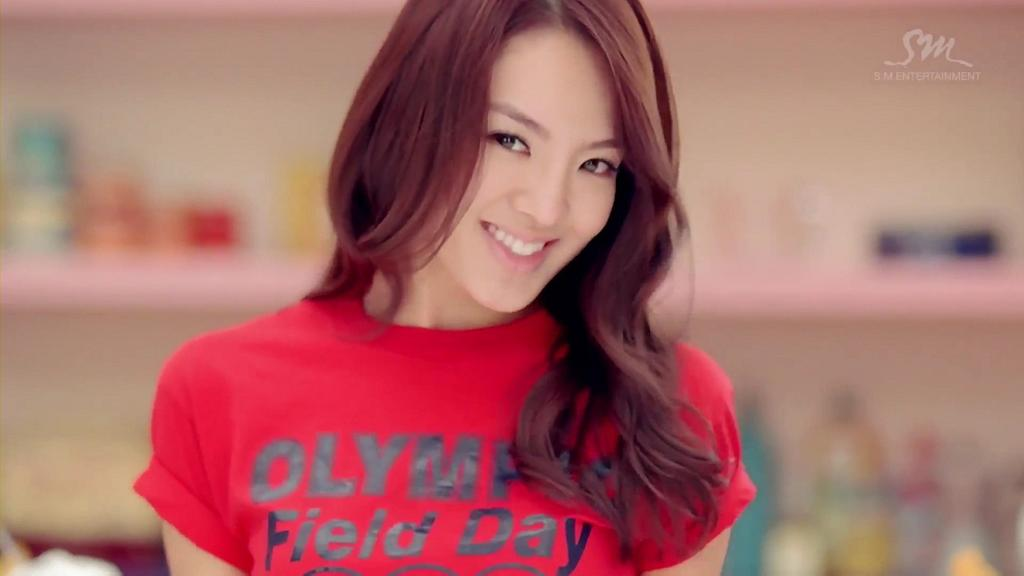face: (426, 32, 618, 314)
